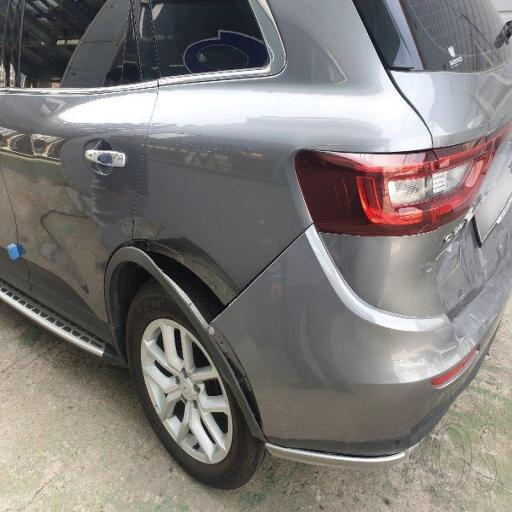broken: (45, 142, 311, 440)
